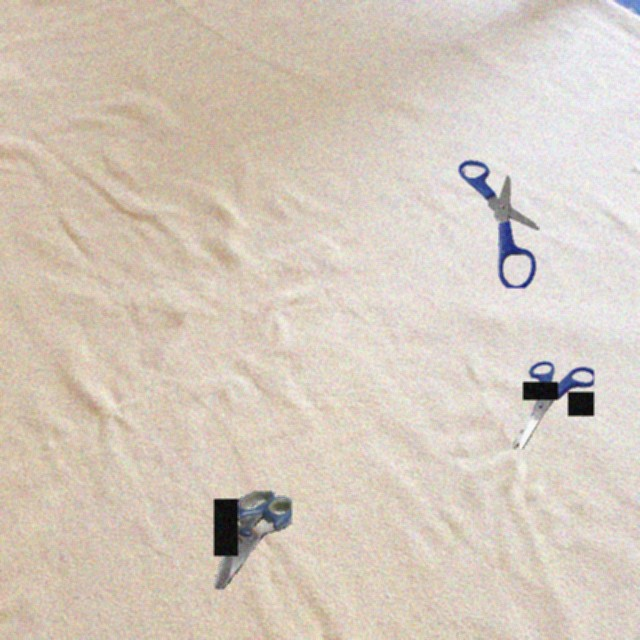scissors: (458, 160, 539, 288), (213, 491, 292, 589), (512, 361, 594, 449)
